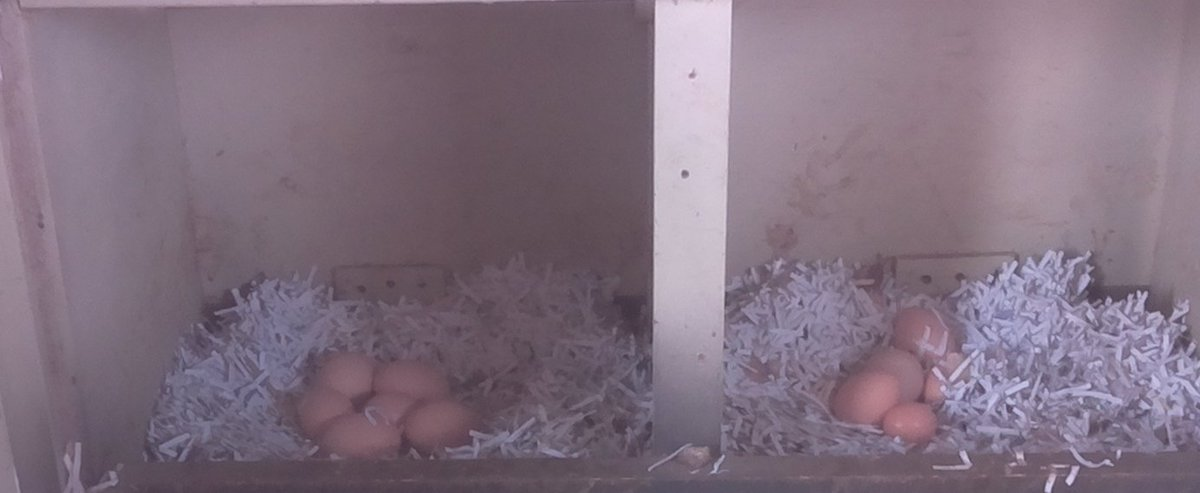egg: (829, 364, 908, 428), (316, 410, 409, 461), (398, 397, 487, 450), (888, 303, 961, 361), (865, 344, 927, 406), (292, 383, 362, 436), (313, 351, 379, 403), (375, 357, 453, 401), (879, 401, 943, 448), (921, 362, 968, 412)
